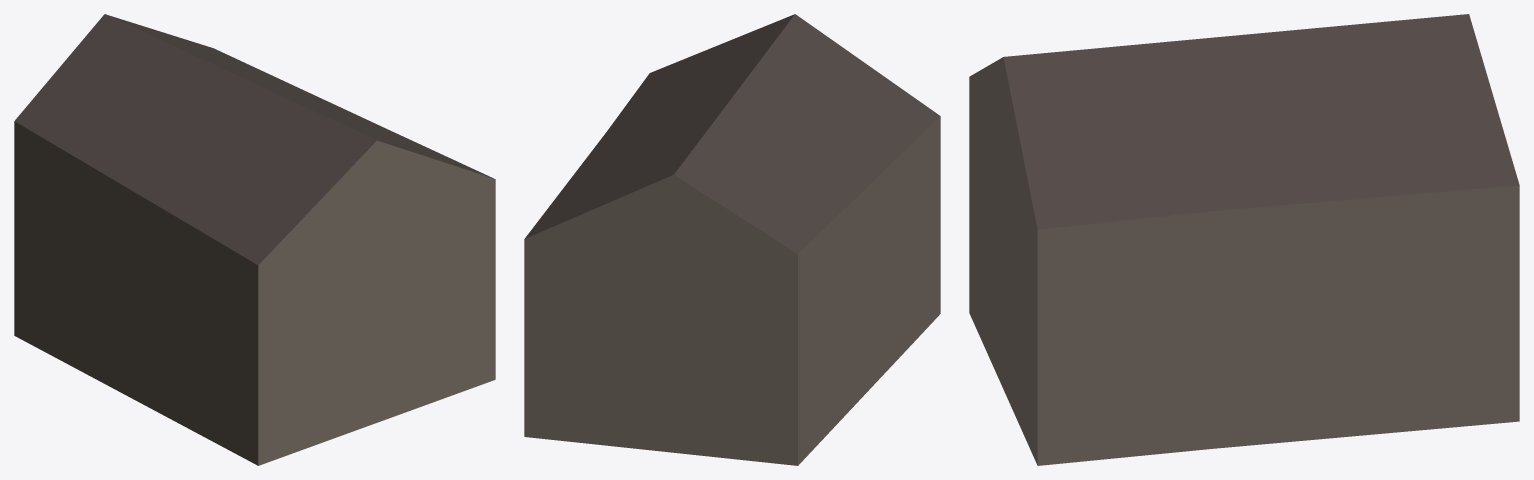
3 renders of one model, left to right at view 1: azimuth 30°, elevation 25°; view 2: azimuth 150°, elevation 25°; view 3: azimuth 270°, elevation 25°, orthographic. The views are drawn at different scales.
Visible parts, largest first — view 1: HP-w783664777; view 2: HP-w783664777; view 3: HP-w783664777.
Part boxes in pixels (bbox=[...]): HP-w783664777: bbox=[14, 14, 495, 465]; HP-w783664777: bbox=[524, 14, 940, 465]; HP-w783664777: bbox=[969, 14, 1519, 465].
Size of the model in its own units: 9.89 by 8.45 by 12.67.
